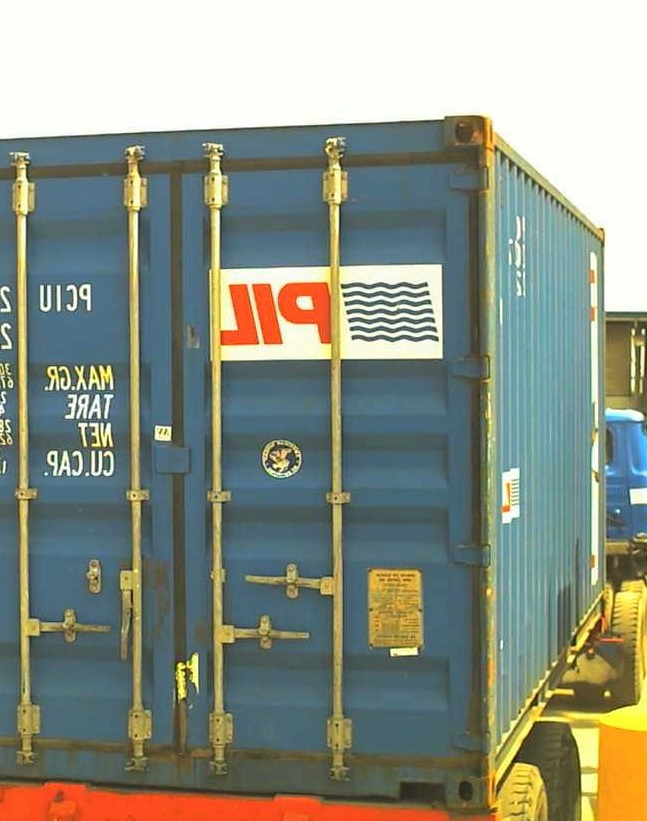container_door: (1, 123, 498, 815)
